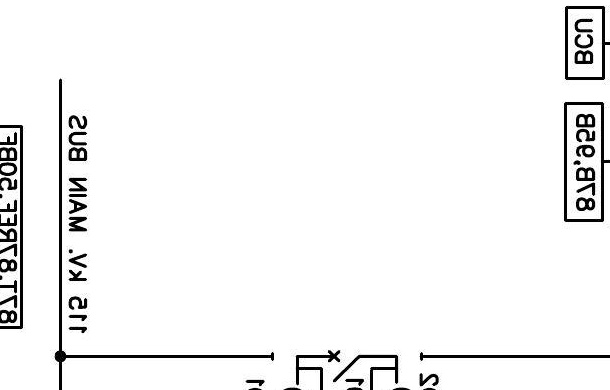115_breaker: (327, 349, 361, 383)
BCU: (564, 5, 606, 81)
